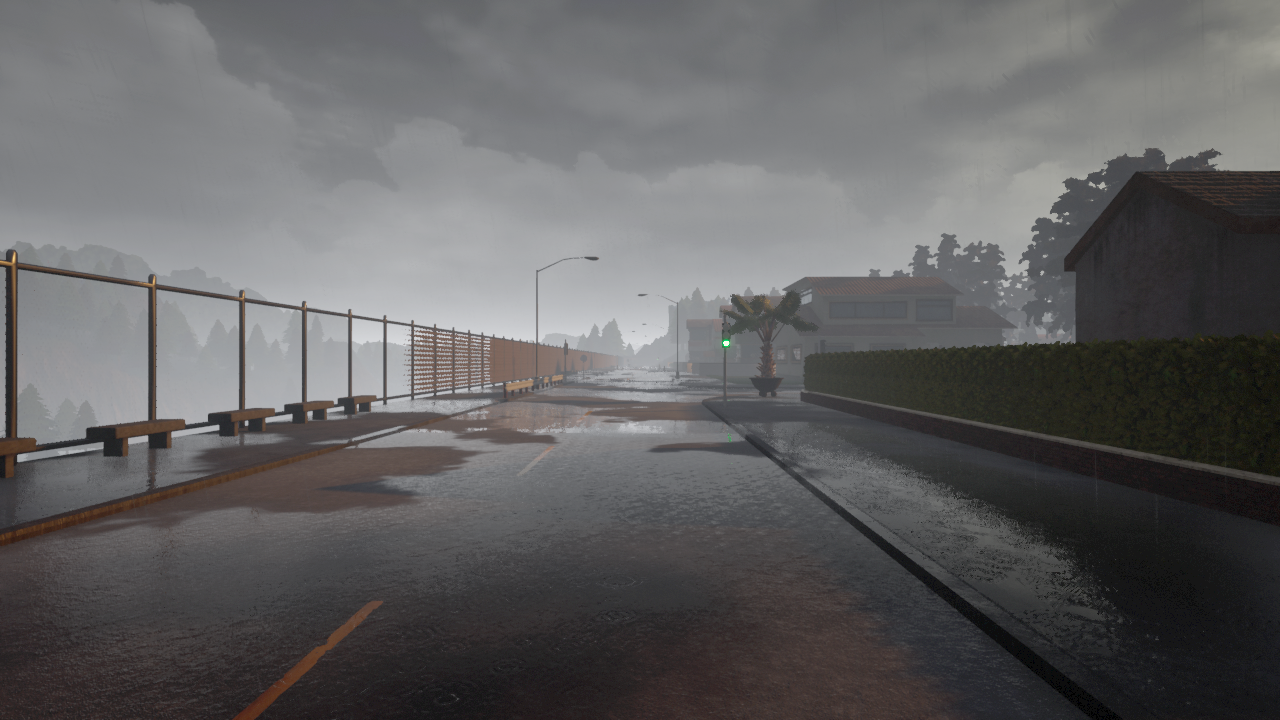green: (721, 322, 732, 348)
